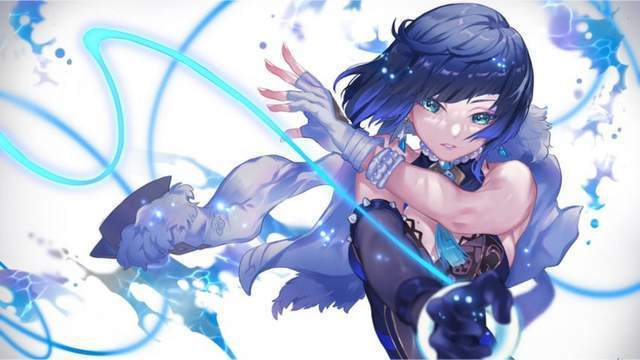夜兰: (256, 4, 547, 360)
